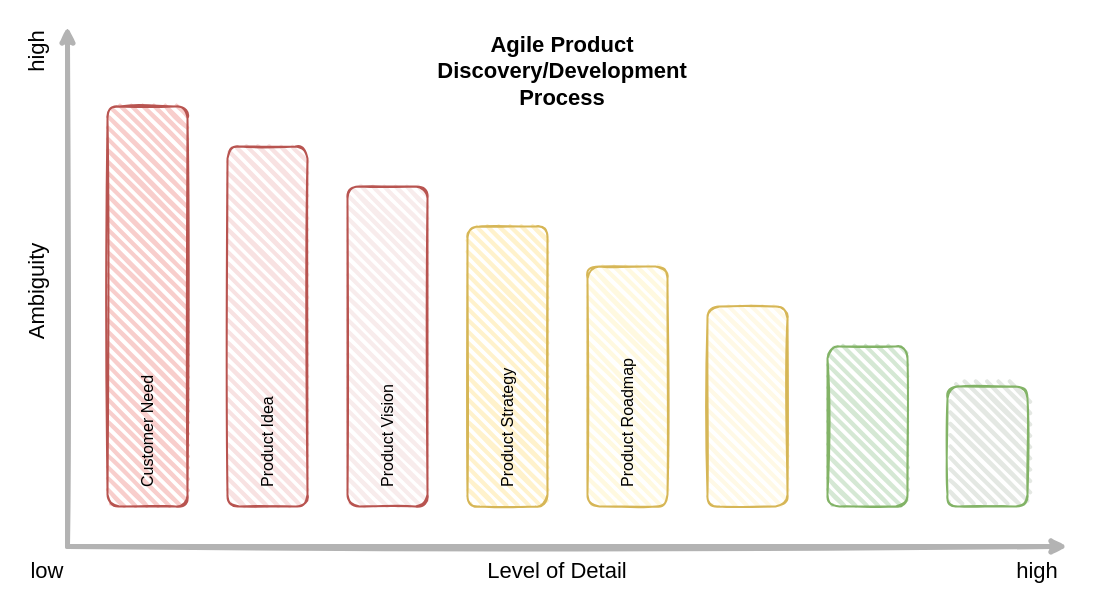
Image size: 1095x604. Some labels were removed from this diagram. Here are the shapes that lost their labels. From the top down, the centre of each, then its label:
At pixel 747 406: "Product Backlog".
At pixel 867 426: "Sprint Backlog".
At pixel 987 446: "Daily Sprint".
